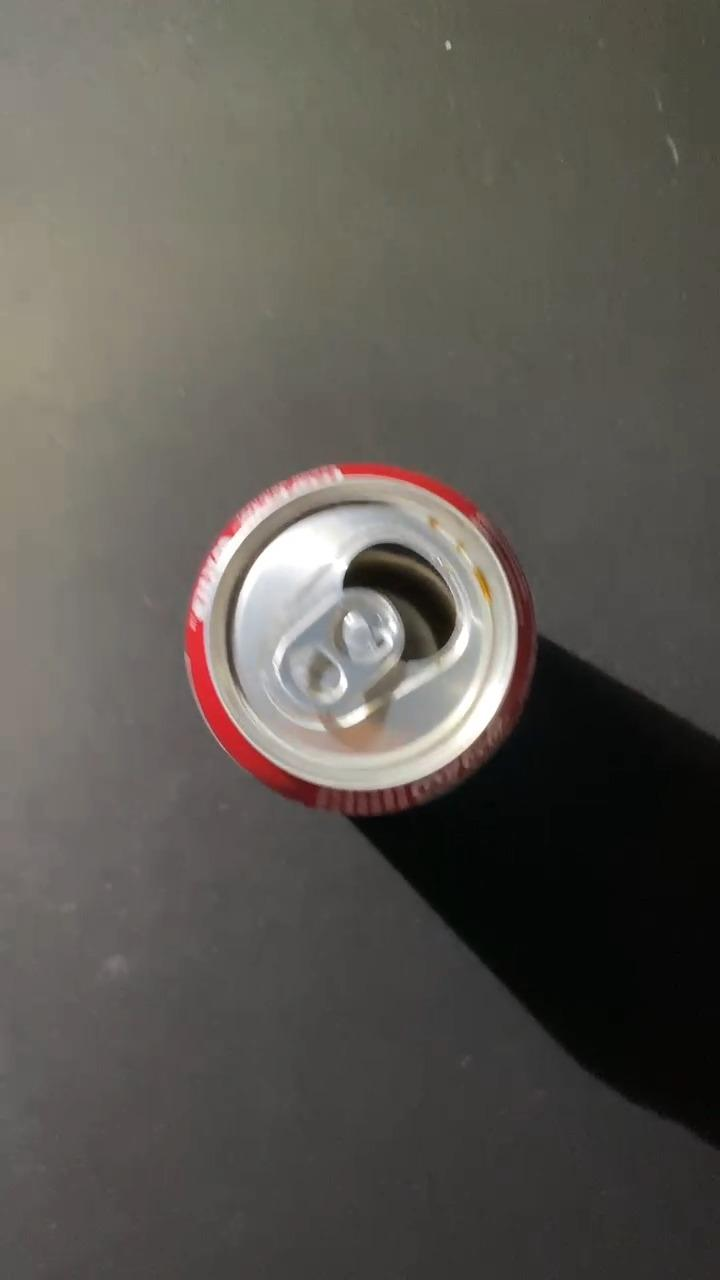coke: (184, 461, 541, 811)
